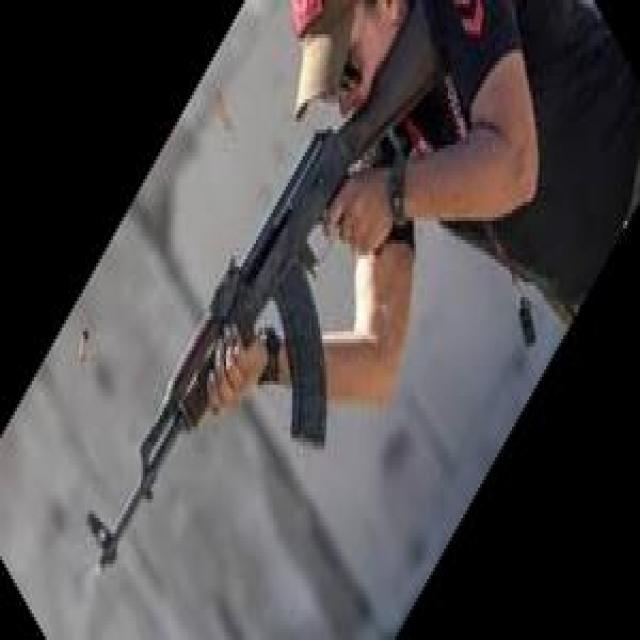weapon: (86, 0, 453, 578)
